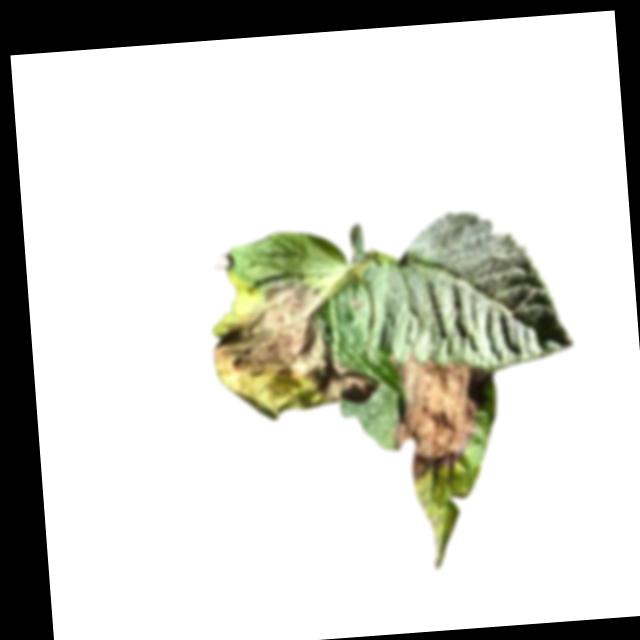Late_blight: (208, 276, 385, 426), (388, 349, 490, 484)
healthy: (372, 206, 572, 375)
